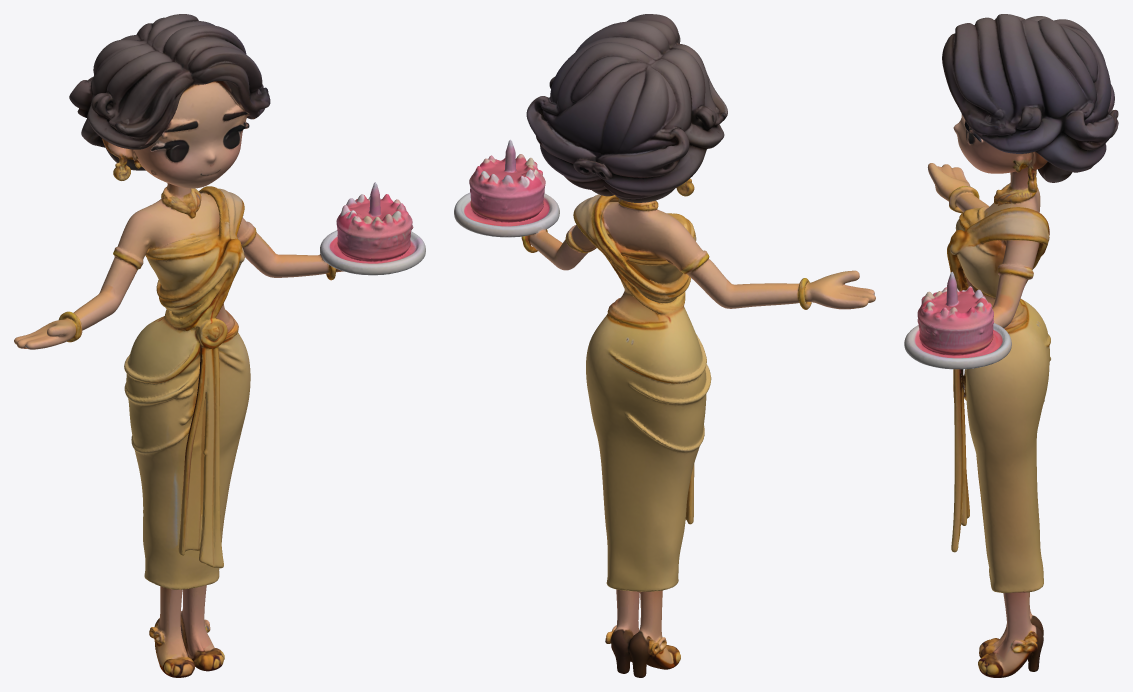
The model's file is asian-woman-3d-model.glb.
The picture shows the model from 3 angles, left to right: view 1: azimuth 30°, elevation 25°; view 2: azimuth 150°, elevation 25°; view 3: azimuth 270°, elevation 25°; orthographic projection. The views are drawn at different scales.
Visible parts, largest first — view 1: tripo_node_6e414b55-9e66-41f7-9363-1f9918f0d554; view 2: tripo_node_6e414b55-9e66-41f7-9363-1f9918f0d554; view 3: tripo_node_6e414b55-9e66-41f7-9363-1f9918f0d554.
Part boxes in pixels (bbox=[...]): tripo_node_6e414b55-9e66-41f7-9363-1f9918f0d554: bbox=[14, 14, 425, 677]; tripo_node_6e414b55-9e66-41f7-9363-1f9918f0d554: bbox=[454, 14, 875, 677]; tripo_node_6e414b55-9e66-41f7-9363-1f9918f0d554: bbox=[904, 14, 1118, 677].
Size of the model in its own units: 0.6686 by 1 by 0.2984.
1 material, 1 textured.
